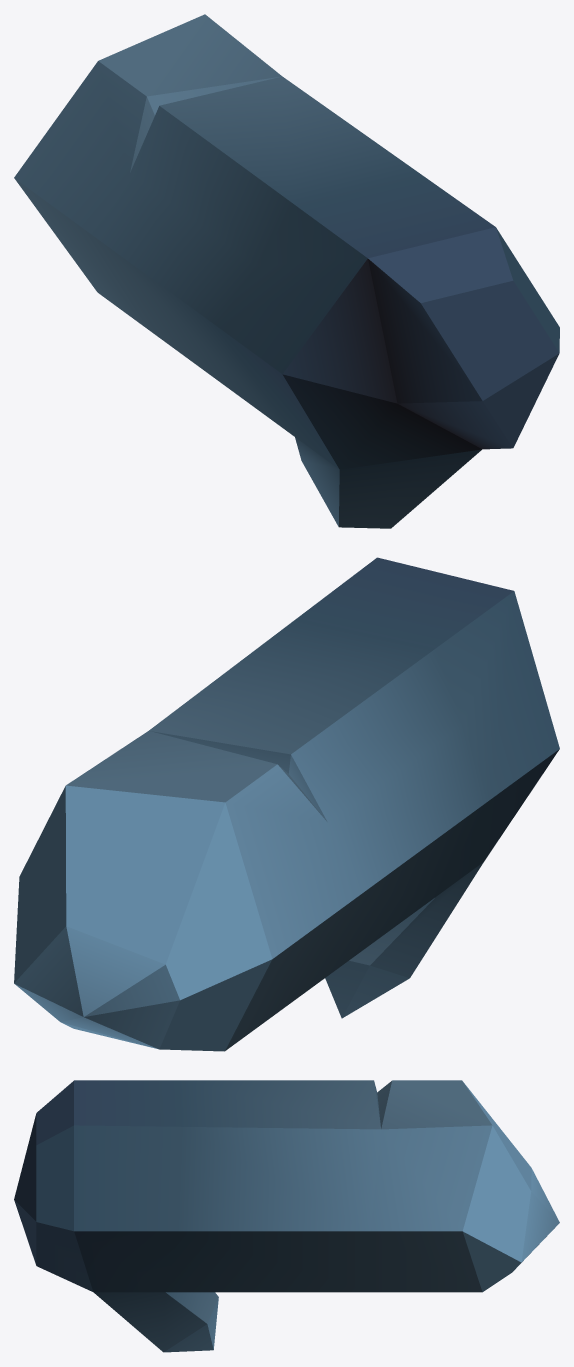
The model's file is IceCrystal.004.glb.
3 renders of one model, top to bottom at view 1: azimuth 30°, elevation 25°; view 2: azimuth 150°, elevation 25°; view 3: azimuth 270°, elevation 25°, orthographic. The views are drawn at different scales.
Parts seen in each view (by area): view 1: IceCrystal.004; view 2: IceCrystal.004; view 3: IceCrystal.004.
Part boxes in pixels (x1,y1,x2,y2): IceCrystal.004: (14, 14, 559, 528); IceCrystal.004: (14, 557, 559, 1051); IceCrystal.004: (14, 1080, 559, 1352).
Bounding box in the file's own units: 274 × 351 × 703.
